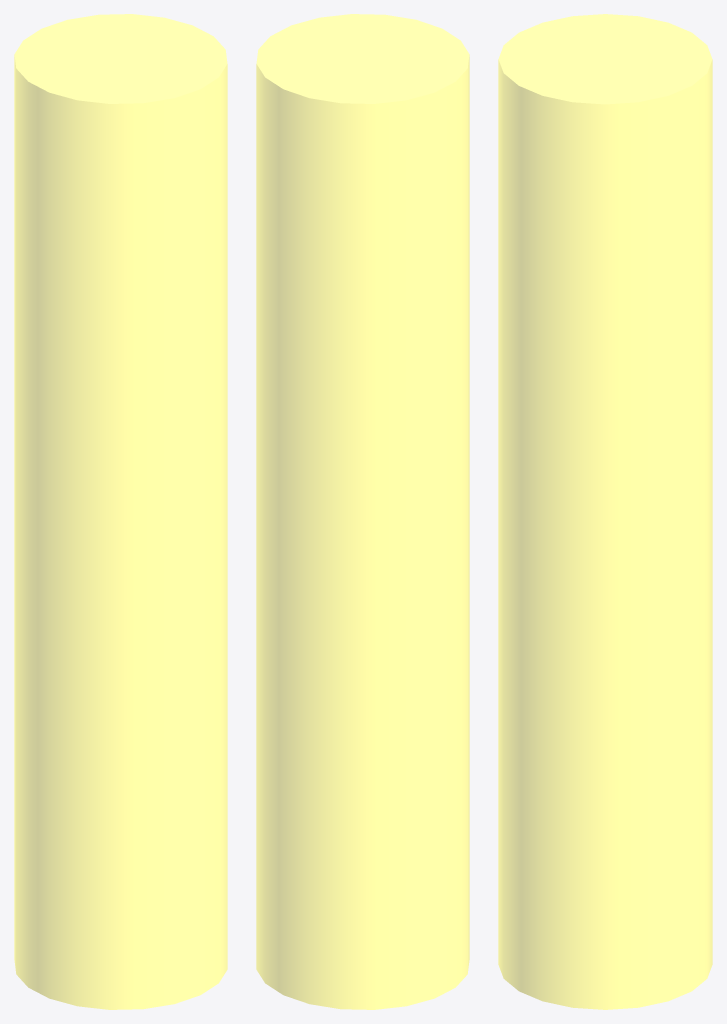
File: door_hinge.fbx
3 renders of one model, left to right at view 1: azimuth 30°, elevation 25°; view 2: azimuth 150°, elevation 25°; view 3: azimuth 270°, elevation 25°, orthographic.
Parts seen in each view (by area): view 1: pCylinder12; view 2: pCylinder12; view 3: pCylinder12.
Part boxes in pixels (left/top/right/bottom): pCylinder12: left=14, top=14, right=227, bottom=1009; pCylinder12: left=256, top=14, right=469, bottom=1009; pCylinder12: left=498, top=14, right=712, bottom=1009.
Bounding box in the file's own units: 0.3 × 1.4 × 0.3.
